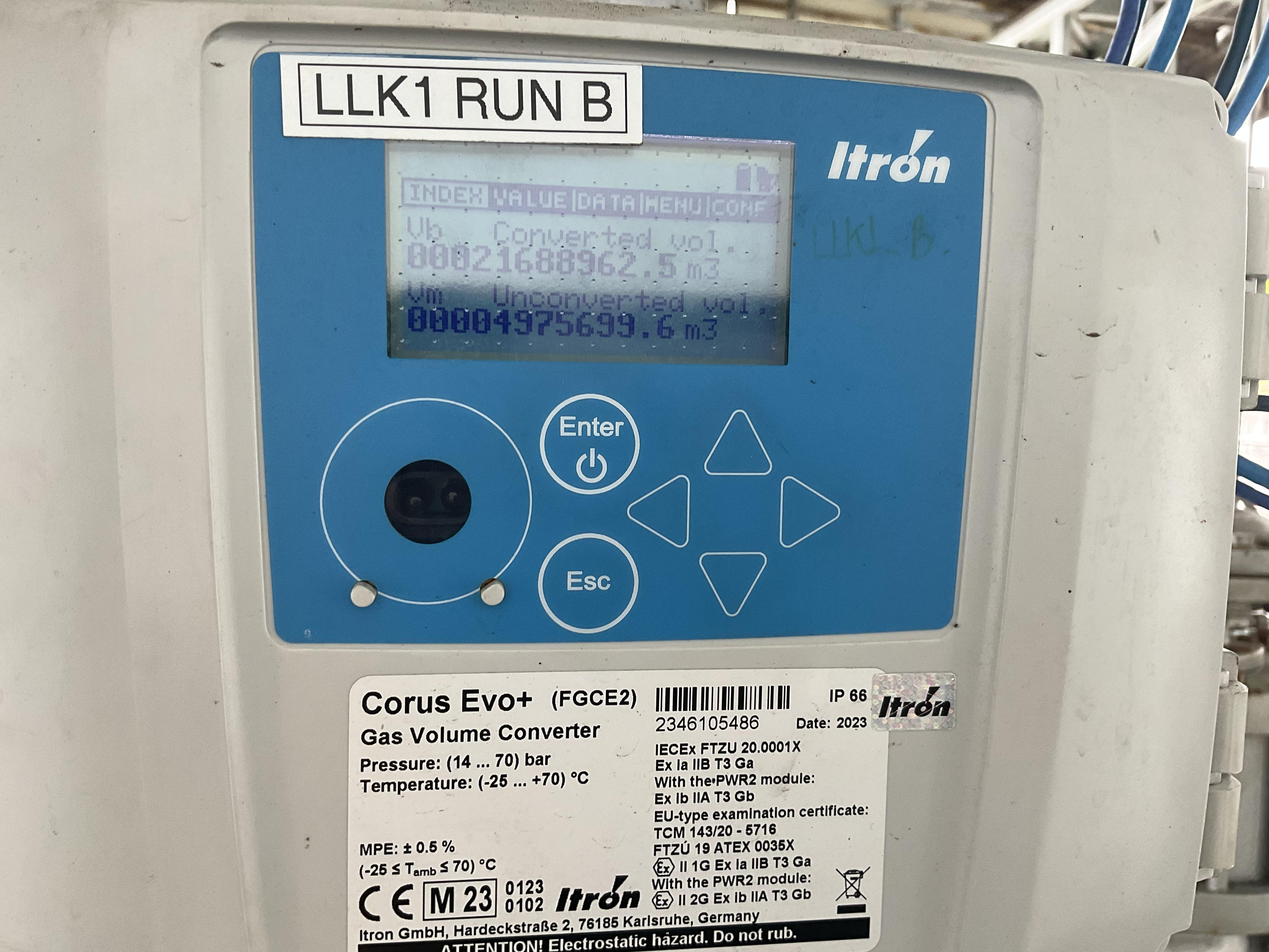digital_screen: (380, 125, 794, 365)
